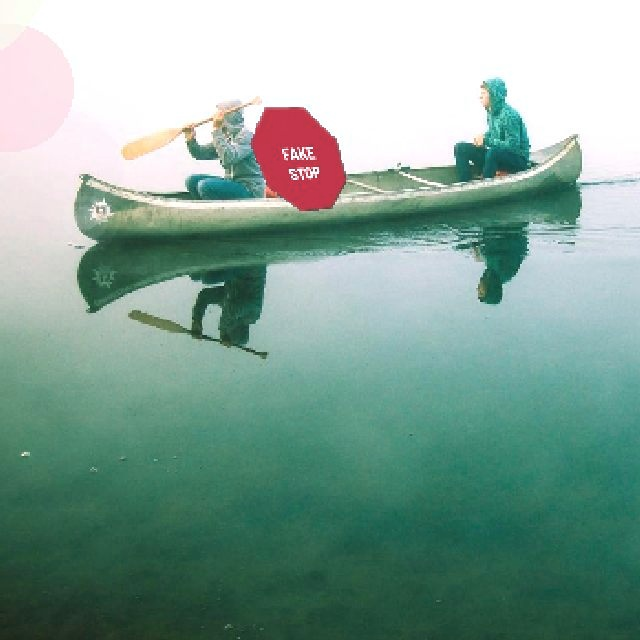FAKE_STOP: (248, 105, 345, 210)
